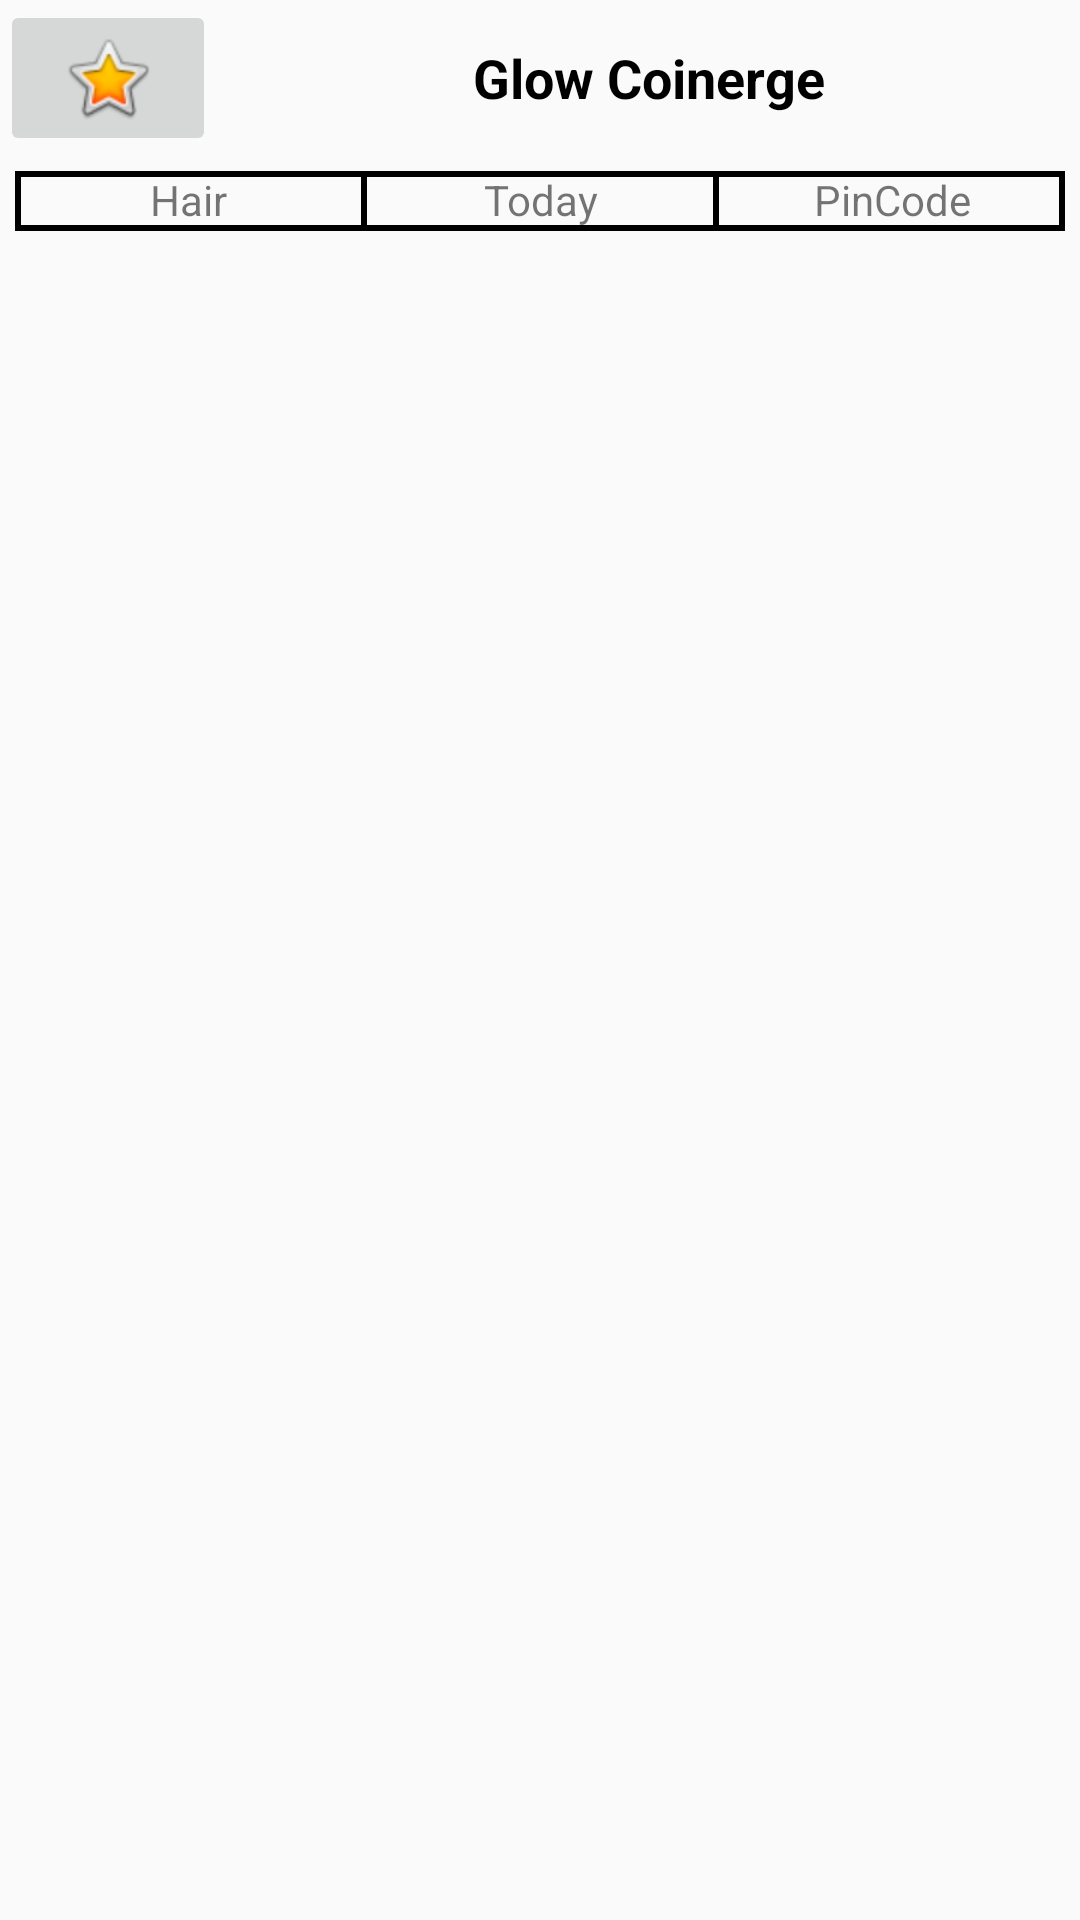

Where icons sit on this 1080px x 1920px app screen, as [x1,y1,x2,y2]:
star on: [12,18,204,138]
